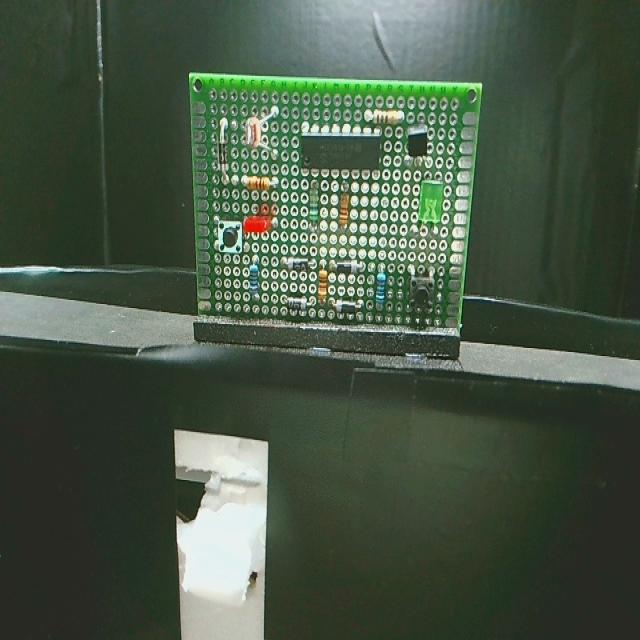IC: (296, 117, 385, 184)
cds: (241, 102, 282, 168)
diode: (214, 116, 234, 190), (330, 292, 367, 321), (277, 292, 319, 316), (276, 250, 317, 274), (329, 260, 367, 278)
led: (411, 177, 450, 238), (245, 207, 284, 241)
resistor: (239, 170, 281, 199), (305, 177, 325, 236), (364, 106, 409, 130), (247, 252, 263, 308), (339, 179, 352, 239), (375, 262, 388, 321), (317, 258, 330, 311)
switch: (404, 262, 440, 326), (212, 214, 244, 256)
transistor: (406, 124, 434, 172)
